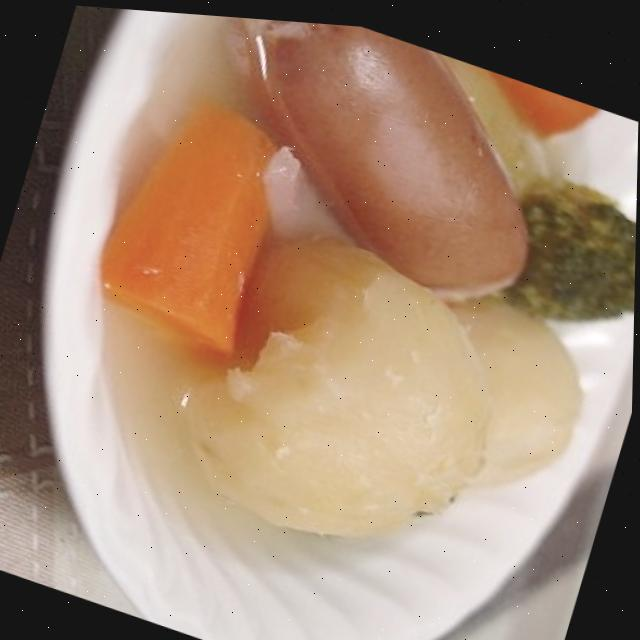汤锅炖物: (36, 3, 640, 640)
